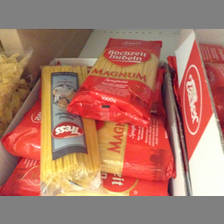pasta: (72, 37, 163, 124), (42, 65, 100, 189)
